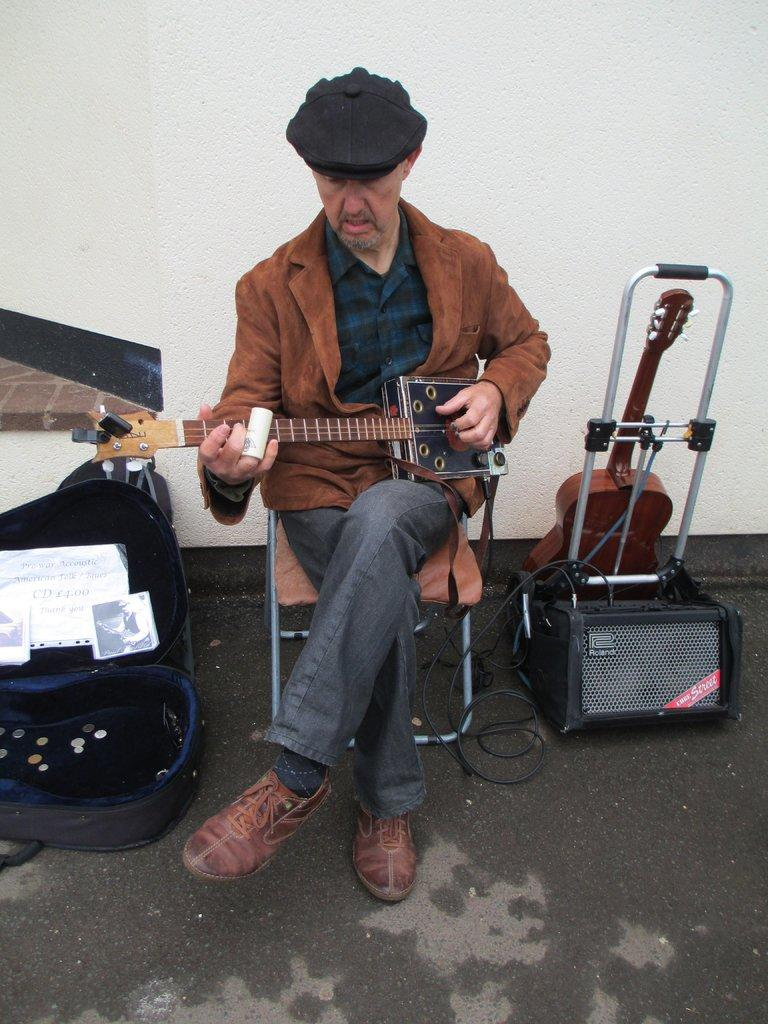Hat: (280, 69, 429, 169)
